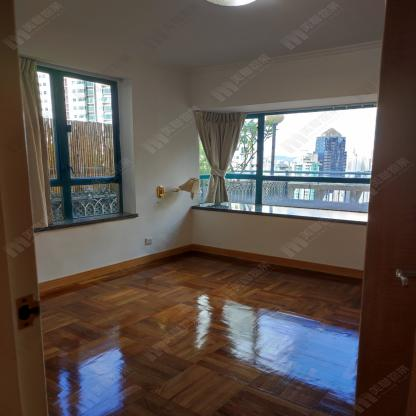Windowsill: (189, 91, 380, 222)
